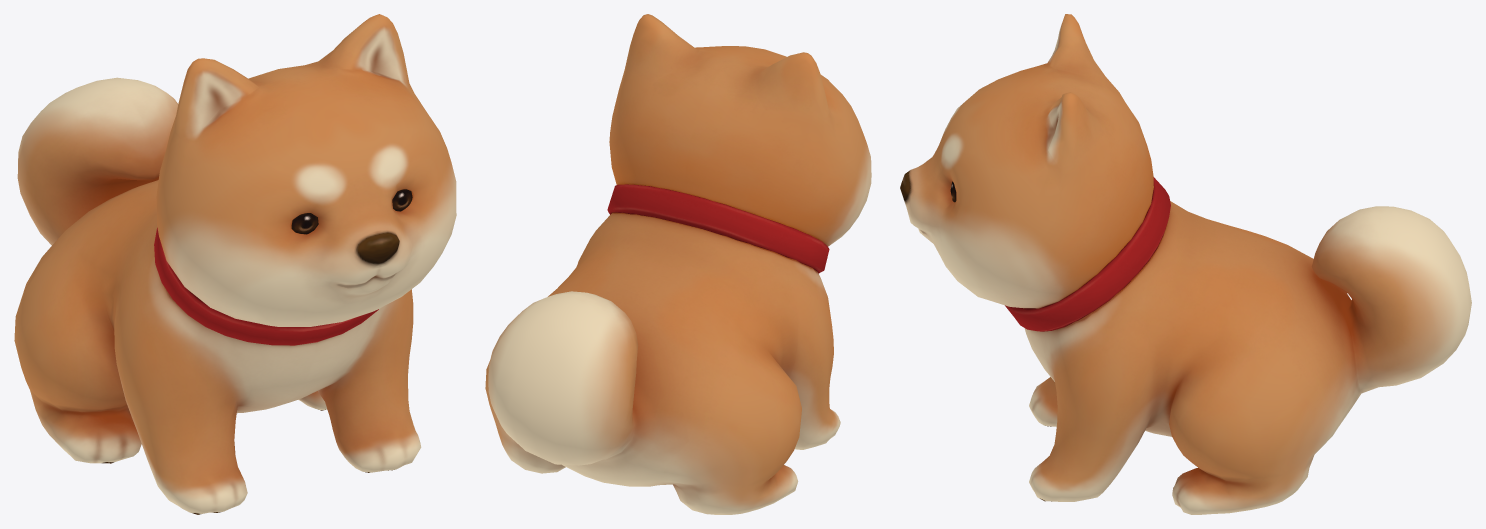
The model's file is chubby_shiba_baby.glb.
3 views of the same model, side by side, from view 1: azimuth 30°, elevation 25°; view 2: azimuth 150°, elevation 25°; view 3: azimuth 270°, elevation 25° (orthographic). The views are drawn at different scales.
Parts seen in each view (by area): view 1: Box002_default_0_0, Group18985_default_0_2, Object001_default_0_4; view 2: Box002_default_0_0, Group18985_default_0_2; view 3: Box002_default_0_0, Group18985_default_0_2.
Part boxes in pixels (x1=…): Box002_default_0_0: x1=14, y1=14, x2=456, y2=514; Group18985_default_0_2: x1=154, y1=227, x2=378, y2=345; Object001_default_0_4: x1=291, y1=189, x2=412, y2=234; Box002_default_0_0: x1=485, y1=14, x2=871, y2=514; Group18985_default_0_2: x1=607, y1=184, x2=829, y2=273; Box002_default_0_0: x1=900, y1=14, x2=1471, y2=514; Group18985_default_0_2: x1=1005, y1=177, x2=1170, y2=331.
Size of the model in its own units: 2.18 by 2.76 by 3.55.
Materials: 1 (1 with a texture image).
